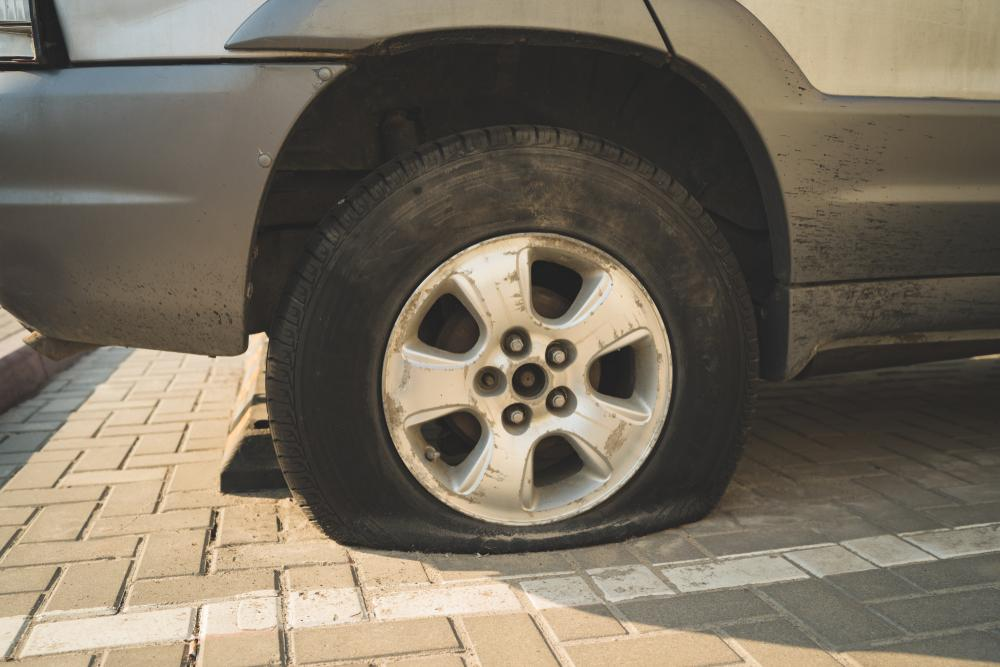tire flat: (266, 127, 761, 555)
